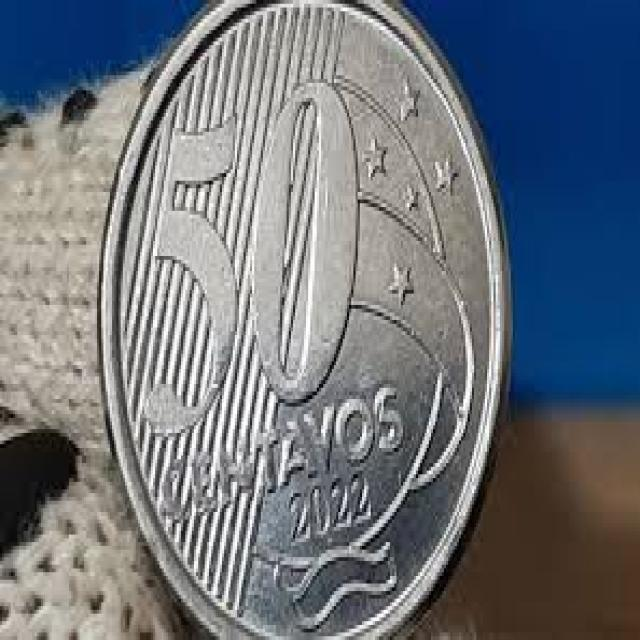50 cent: (101, 0, 513, 640)
